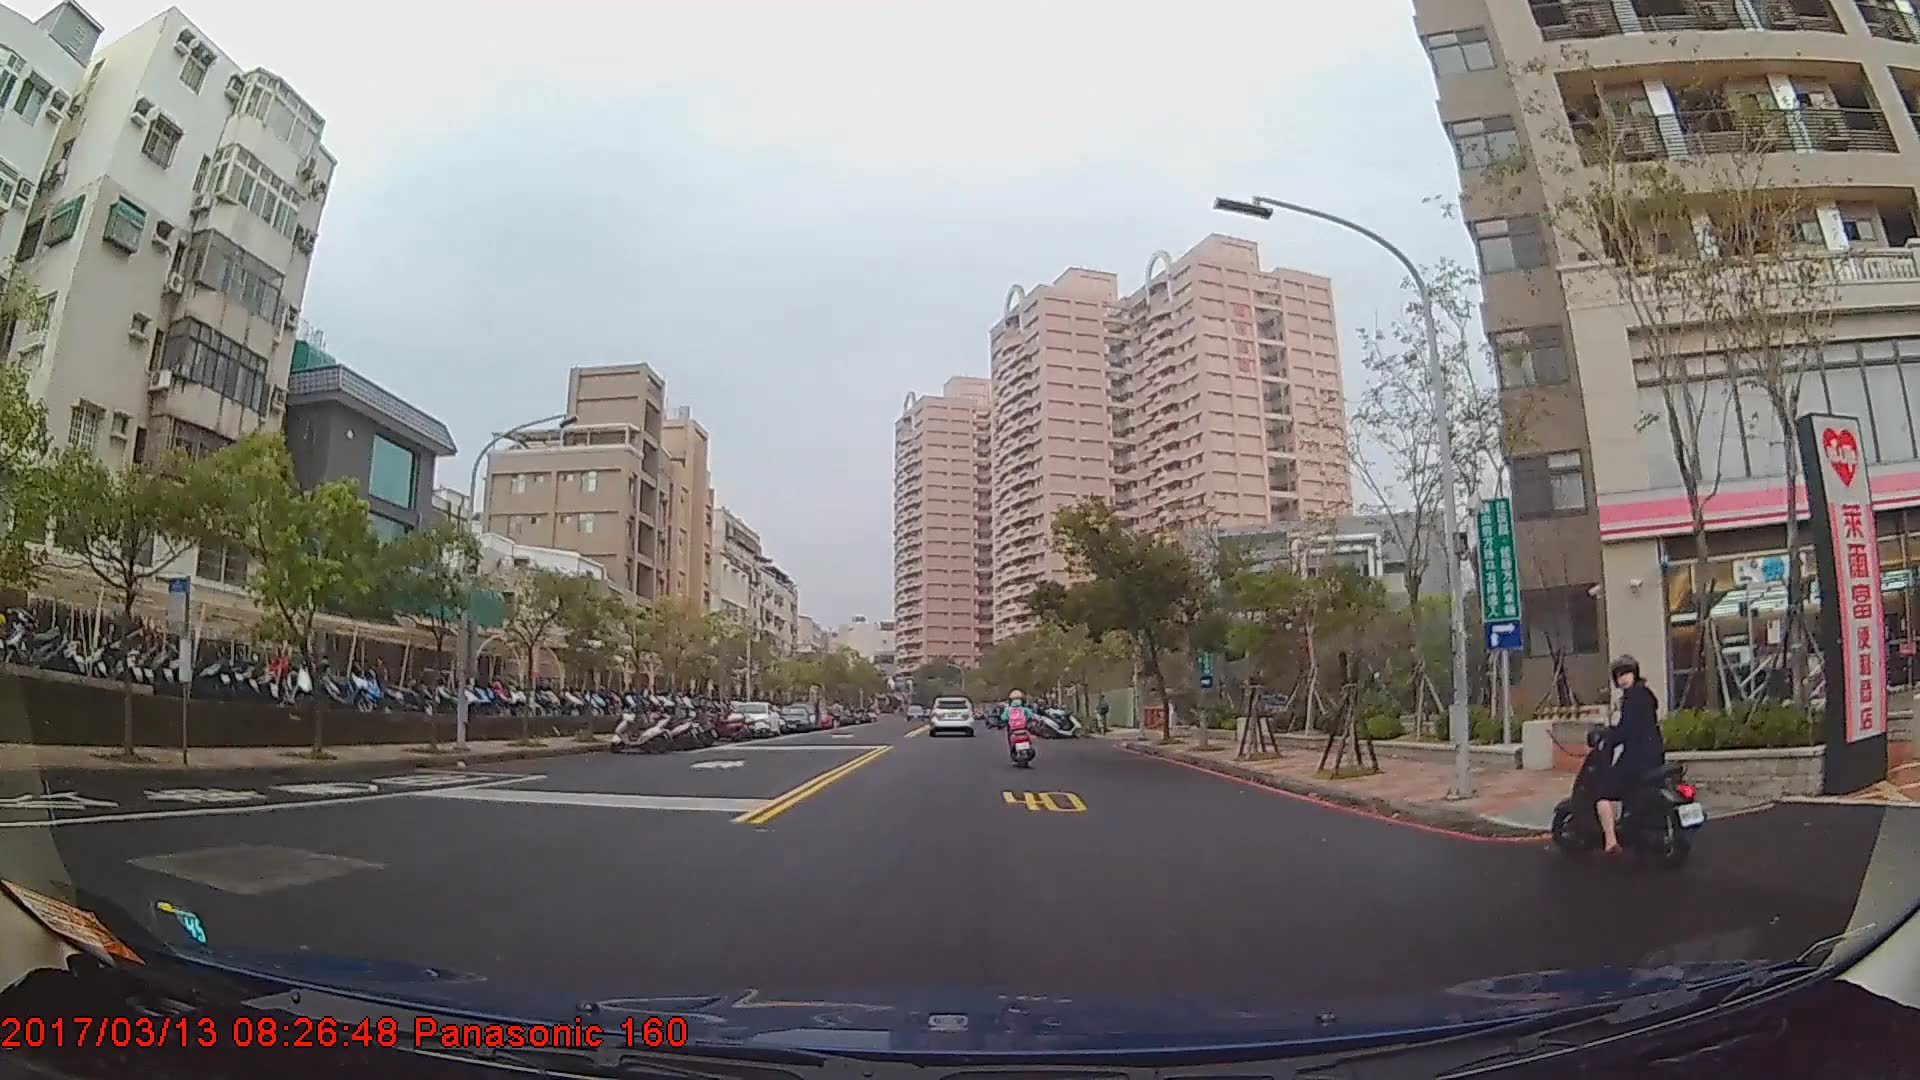rider: (1551, 638, 1717, 857), (1002, 690, 1038, 768)
vehicle: (724, 697, 782, 735), (926, 694, 977, 735), (777, 701, 811, 730)
